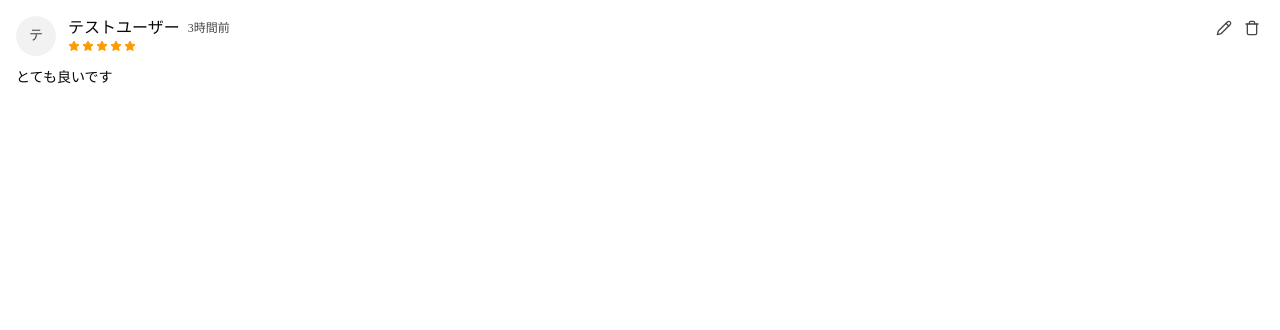
it: ReviewCard › 編集モードに切り替わる
Click the button titled "編集". click: (1224, 28)
box: [1212,16,1236,40]
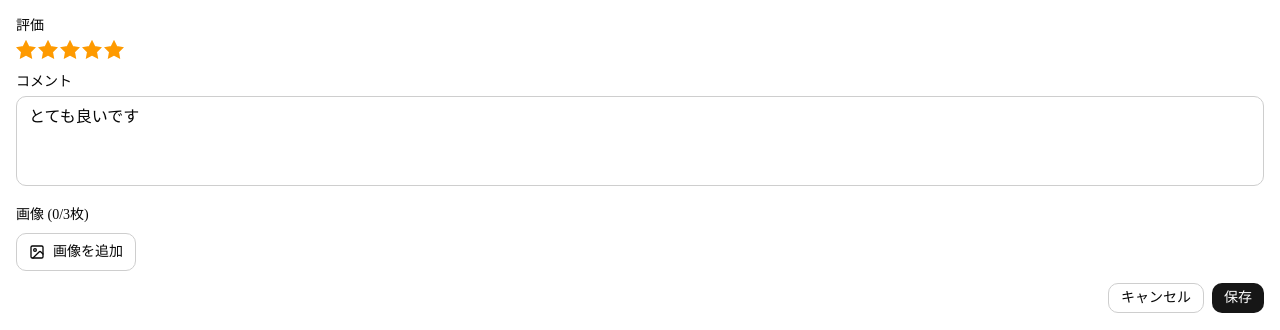
Expected: the button "保存" is shown, [1212,283,1264,313]
Expected: the button "キャンセル" is shown, [1108,283,1204,313]
